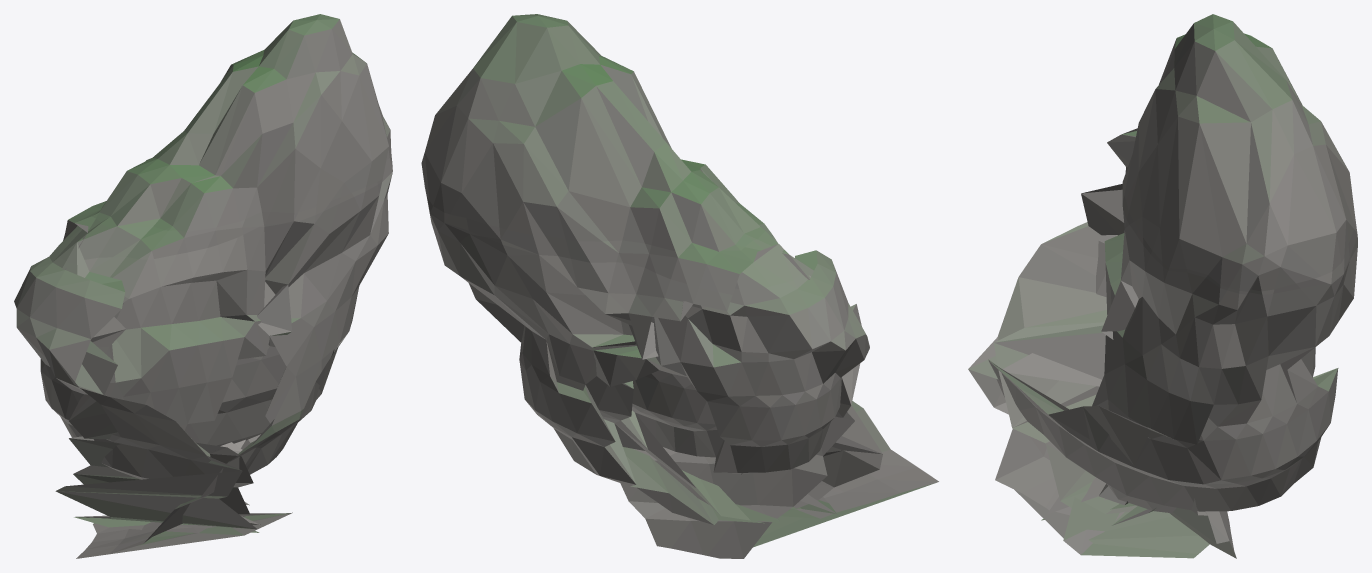
Rendered from Stein_4.fbx.
3 views of the same model, side by side, from view 1: azimuth 30°, elevation 25°; view 2: azimuth 150°, elevation 25°; view 3: azimuth 270°, elevation 25° (orthographic). The views are drawn at different scales.
Visible parts, largest first — view 1: Stein_4; view 2: Stein_4; view 3: Stein_4.
Part boxes in pixels (x1=…): Stein_4: x1=14, y1=14, x2=392, y2=558; Stein_4: x1=421, y1=14, x2=938, y2=558; Stein_4: x1=968, y1=14, x2=1357, y2=558.
Bounding box in the file's own units: 0.5379 × 0.6 × 0.3492.
